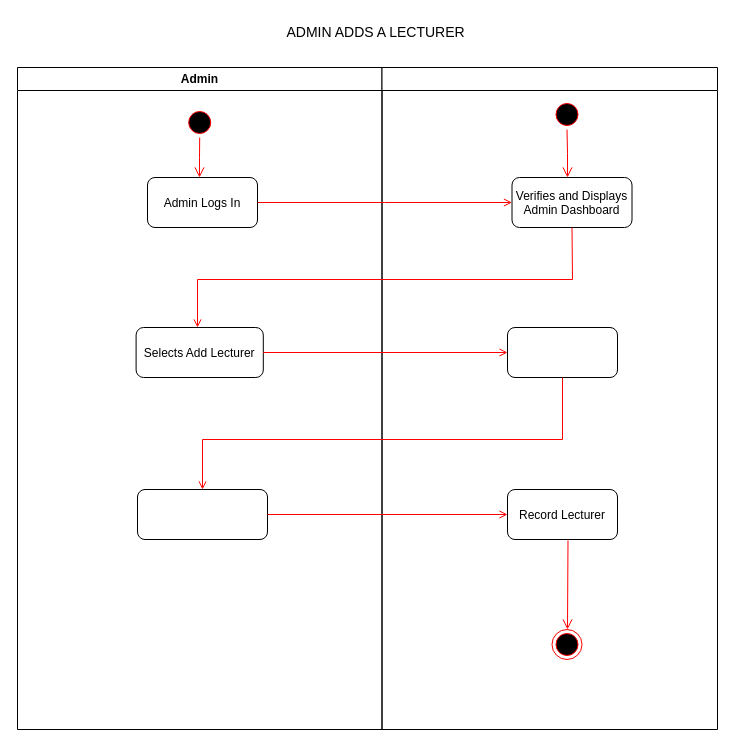
Image size: 735x747. Some labels were removed from this diagram. Here are the shapes that lost their labels. From the top down, the box of each, then its label:
(506, 326, 618, 378): Display Lecturer Form
(381, 66, 718, 730): System
(136, 488, 268, 540): Enter Lecturer Details
